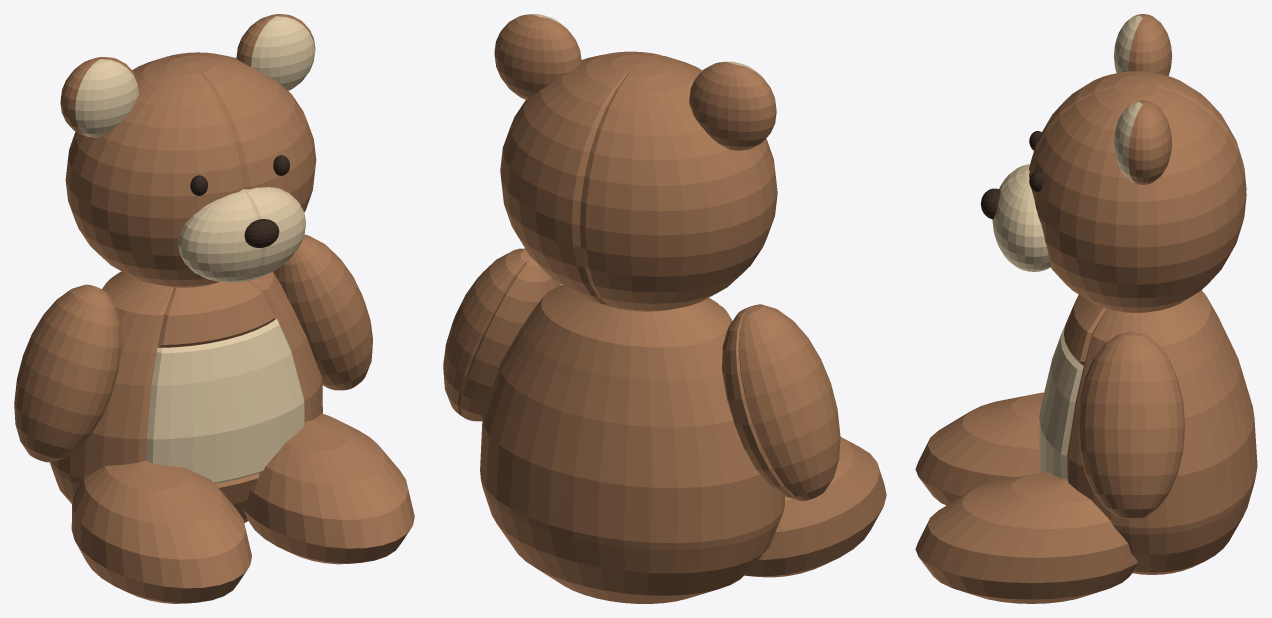
3 views of the same model, side by side, from view 1: azimuth 30°, elevation 25°; view 2: azimuth 150°, elevation 25°; view 3: azimuth 270°, elevation 25° (orthographic). The views are drawn at different scales.
Parts seen in each view (by area): view 1: Body_PearStuffedTorso, Head_BroadSoftRound, Foot_Left_ForwardFlatPaw, Foot_Right_ForwardFlatPaw, Arm_Left_SoftHanging, Arm_Right_SoftHanging, Muzzle_RoundedCreamSnout, Ear_Left_ShortRound, Ear_Right_ShortRound, Nose_RoundedEspresso; view 2: Body_PearStuffedTorso, Head_BroadSoftRound, Arm_Left_SoftHanging, Arm_Right_SoftHanging, Foot_Left_ForwardFlatPaw, Ear_Left_ShortRound, Ear_Right_ShortRound; view 3: Head_BroadSoftRound, Body_PearStuffedTorso, Foot_Right_ForwardFlatPaw, Arm_Right_SoftHanging, Foot_Left_ForwardFlatPaw, Muzzle_RoundedCreamSnout, Ear_Right_ShortRound, Ear_Left_ShortRound.
Part boxes in pixels (x1=…): Body_PearStuffedTorso: x1=50, y1=271, x2=322, y2=522; Head_BroadSoftRound: x1=65, y1=52, x2=316, y2=287; Foot_Left_ForwardFlatPaw: x1=71, y1=461, x2=251, y2=603; Foot_Right_ForwardFlatPaw: x1=243, y1=413, x2=414, y2=564; Arm_Left_SoftHanging: x1=14, y1=284, x2=121, y2=462; Arm_Right_SoftHanging: x1=273, y1=234, x2=372, y2=390; Muzzle_RoundedCreamSnout: x1=178, y1=187, x2=305, y2=282; Ear_Left_ShortRound: x1=60, y1=57, x2=139, y2=137; Ear_Right_ShortRound: x1=236, y1=14, x2=315, y2=90; Nose_RoundedEspresso: x1=244, y1=219, x2=279, y2=247; Body_PearStuffedTorso: x1=480, y1=285, x2=784, y2=603; Head_BroadSoftRound: x1=500, y1=51, x2=777, y2=311; Arm_Left_SoftHanging: x1=722, y1=304, x2=840, y2=501; Arm_Right_SoftHanging: x1=443, y1=248, x2=560, y2=421; Foot_Left_ForwardFlatPaw: x1=744, y1=437, x2=886, y2=577; Ear_Left_ShortRound: x1=689, y1=61, x2=776, y2=150; Ear_Right_ShortRound: x1=494, y1=14, x2=581, y2=99; Head_BroadSoftRound: x1=1029, y1=71, x2=1246, y2=312; Body_PearStuffedTorso: x1=1039, y1=290, x2=1257, y2=574; Foot_Right_ForwardFlatPaw: x1=915, y1=472, x2=1137, y2=603; Arm_Right_SoftHanging: x1=1077, y1=331, x2=1185, y2=520; Foot_Left_ForwardFlatPaw: x1=915, y1=392, x2=1043, y2=505; Muzzle_RoundedCreamSnout: x1=992, y1=164, x2=1050, y2=271; Ear_Right_ShortRound: x1=1113, y1=100, x2=1172, y2=184; Ear_Left_ShortRound: x1=1113, y1=14, x2=1172, y2=75.
Bounding box in the file's own units: 0.5211 × 0.691 × 0.445.
